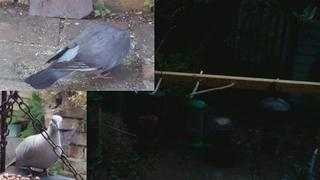collared dove: (5, 115, 63, 177)
wood pigeon: (24, 24, 130, 90)
